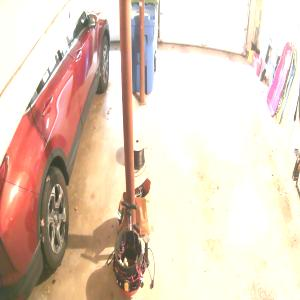garbage bin: (131, 0, 158, 96)
honda crv: (0, 0, 111, 299)
tool bucket: (113, 223, 147, 298)
